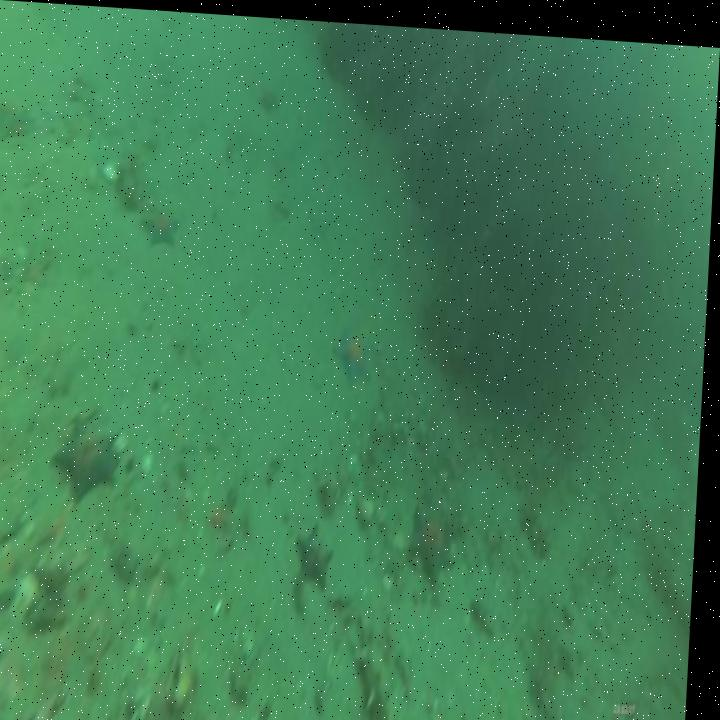holothurian: (358, 634, 406, 720)
starfish: (56, 409, 130, 505), (409, 495, 464, 582), (333, 317, 380, 389), (298, 515, 344, 586), (142, 202, 186, 255)
